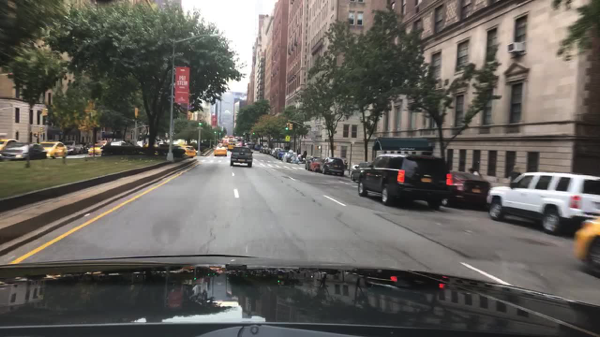car: (484, 171, 598, 233), (358, 153, 454, 209), (570, 207, 599, 275), (449, 170, 491, 208), (1, 141, 46, 162), (39, 140, 68, 159), (319, 156, 345, 176), (230, 146, 253, 167), (352, 162, 374, 183), (0, 139, 21, 157), (174, 145, 198, 159), (89, 141, 109, 155), (303, 154, 319, 171), (277, 149, 293, 162), (309, 159, 323, 173), (65, 141, 79, 154), (213, 143, 227, 156), (109, 140, 134, 147), (79, 142, 89, 154), (86, 143, 98, 153), (225, 141, 237, 151), (272, 147, 282, 157), (157, 143, 177, 148), (264, 146, 272, 155), (135, 141, 147, 147), (251, 142, 259, 149), (245, 141, 253, 147), (237, 136, 243, 143), (258, 145, 264, 151), (228, 135, 235, 138)
person: (507, 166, 521, 184), (468, 167, 483, 178)
traffic light: (39, 105, 50, 116), (131, 106, 139, 119), (284, 121, 291, 131), (198, 118, 203, 126), (289, 122, 293, 131), (40, 127, 46, 132), (250, 131, 257, 135)
traffic sign: (285, 134, 290, 141)
